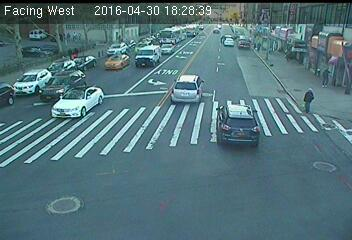neg: (13, 146, 36, 177), (132, 134, 153, 162), (233, 194, 251, 218), (21, 71, 39, 95), (43, 29, 60, 53), (55, 193, 72, 216), (198, 161, 215, 184), (265, 142, 282, 164), (189, 82, 205, 104), (161, 79, 177, 100), (135, 95, 151, 116), (42, 123, 58, 144), (157, 185, 173, 205), (101, 36, 115, 54), (157, 30, 170, 49), (130, 55, 143, 73), (278, 193, 291, 211), (230, 120, 243, 137), (91, 129, 104, 145), (232, 47, 243, 62), (85, 75, 96, 89), (316, 162, 326, 176), (270, 42, 279, 54)
pos: (299, 86, 321, 115), (321, 68, 336, 88)
